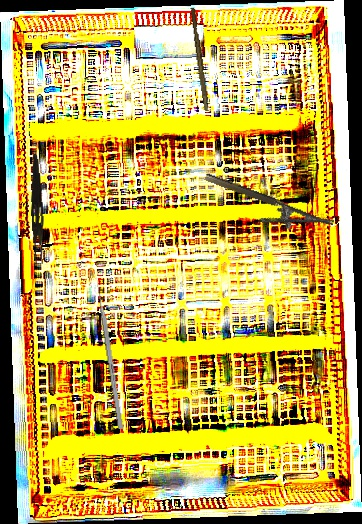Dressing Forceps: (27, 153, 47, 265)
Needle Holder: (197, 171, 335, 247)
Pusher: (93, 276, 125, 430)
Scalpel Handle: (188, 7, 212, 112)
